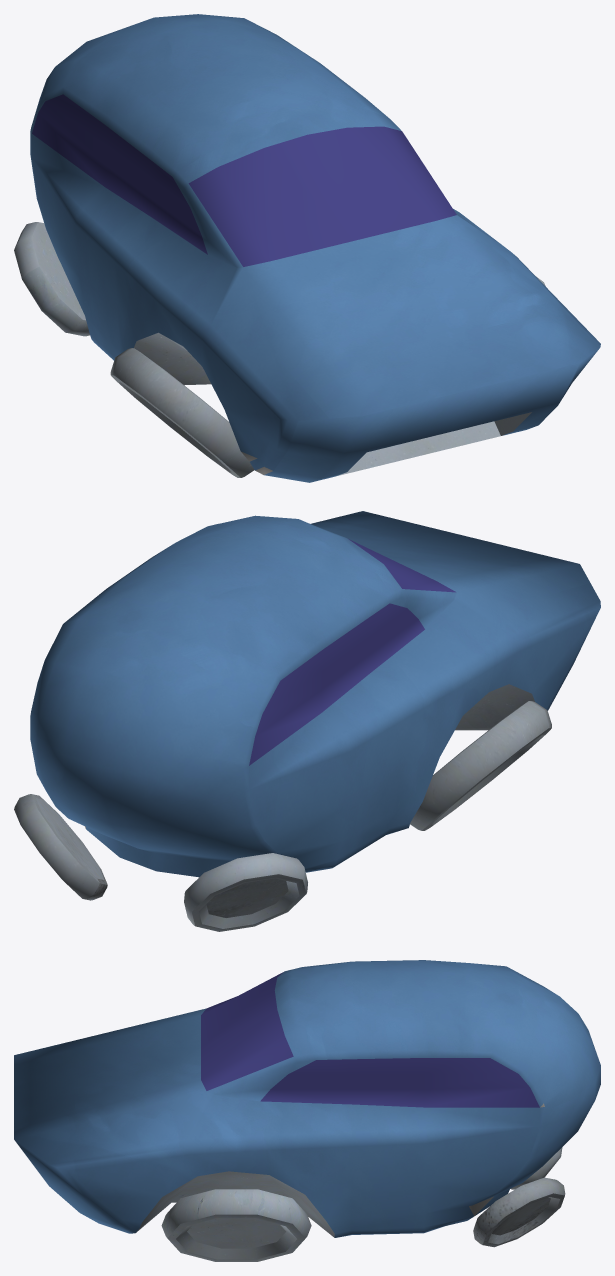
File: vehicle_car_01.FBX
The picture shows the model from 3 angles, top to bottom: view 1: azimuth 30°, elevation 25°; view 2: azimuth 150°, elevation 25°; view 3: azimuth 270°, elevation 25°; orthographic projection. The views are drawn at different scales.
Parts seen in each view (by area): view 1: HoverCar; view 2: HoverCar; view 3: HoverCar.
Part boxes in pixels (x1,y1,x2,y2): HoverCar: (14,14,600,482); HoverCar: (14,511,600,931); HoverCar: (14,960,600,1261).
Bounding box in the file's own units: 3.97 × 2.92 × 6.23.
